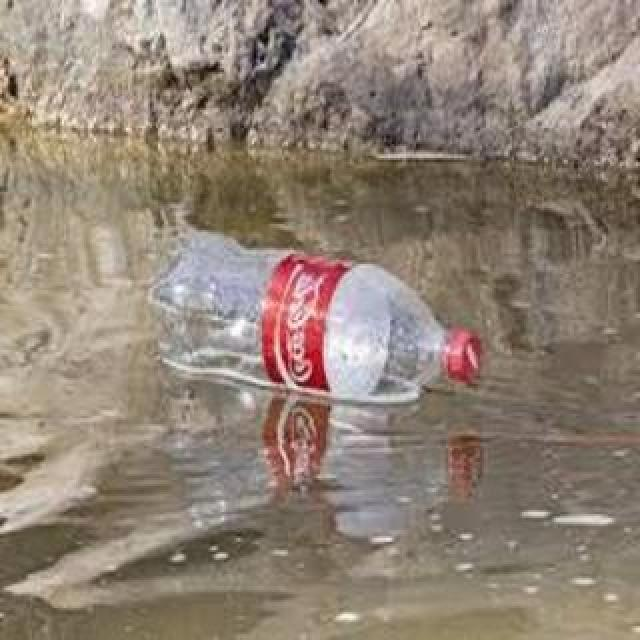Pet_Bottle: (140, 222, 486, 408)
